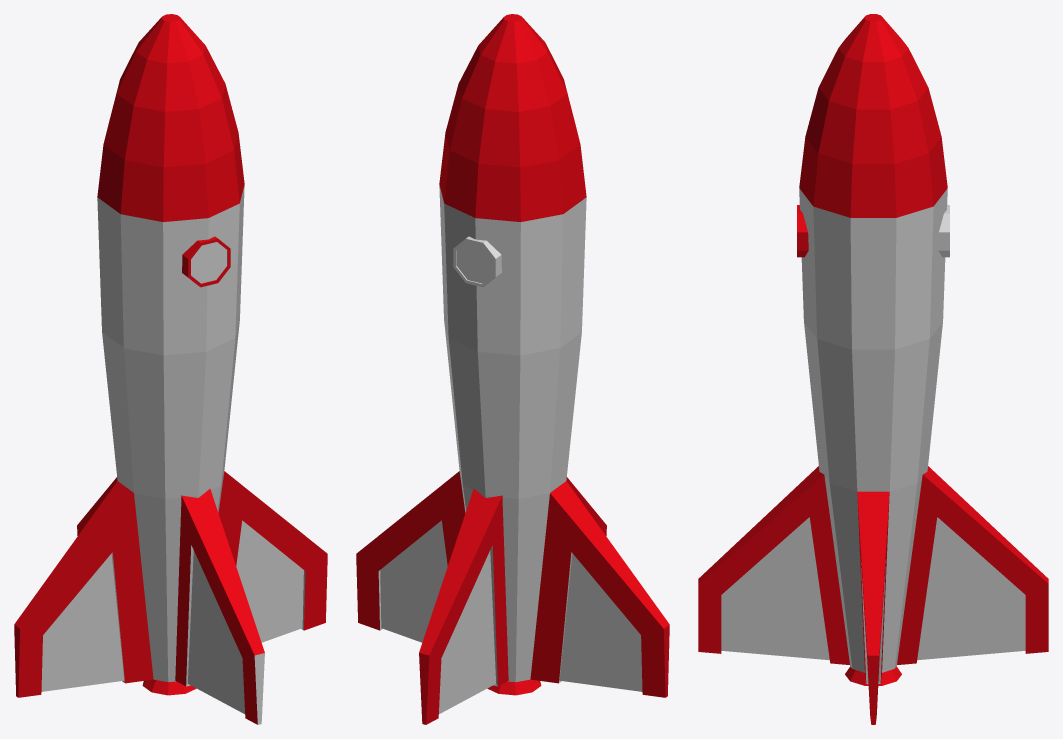
The picture shows the model from 3 angles, left to right: view 1: azimuth 30°, elevation 25°; view 2: azimuth 150°, elevation 25°; view 3: azimuth 270°, elevation 25°; orthographic projection.
Parts seen in each view (by area): view 1: Rocket; view 2: Rocket; view 3: Rocket.
Boxes of the visible parts, box(x1,y1,x2,y2) form: Rocket: box(14, 14, 327, 724); Rocket: box(356, 14, 669, 724); Rocket: box(698, 14, 1048, 724).
Bounding box in the file's own units: 659 × 1362 × 659.
